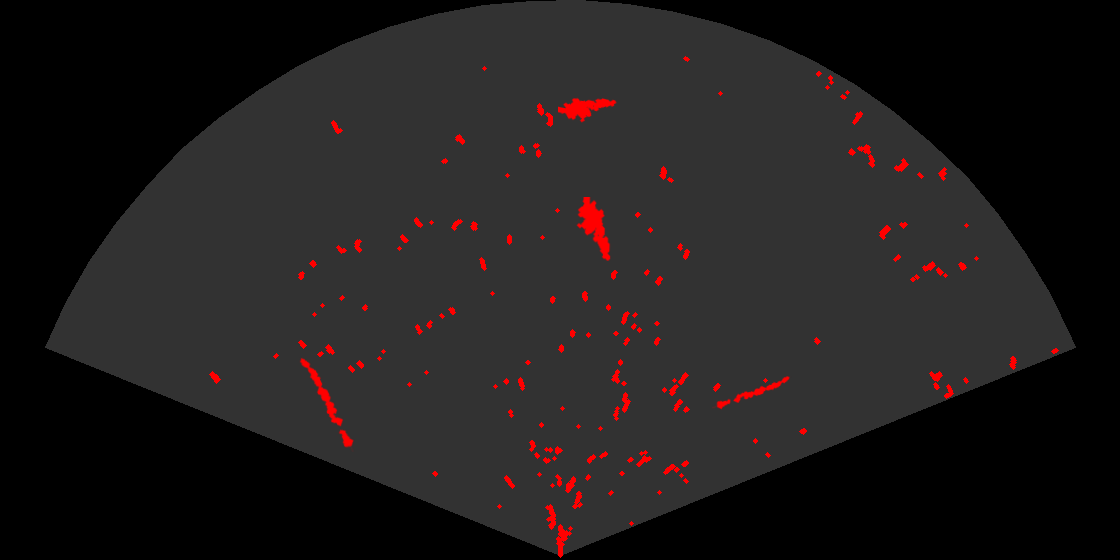chain: (298, 356, 355, 452), (712, 375, 792, 411)
frogman: (575, 197, 612, 261), (558, 96, 618, 124)
